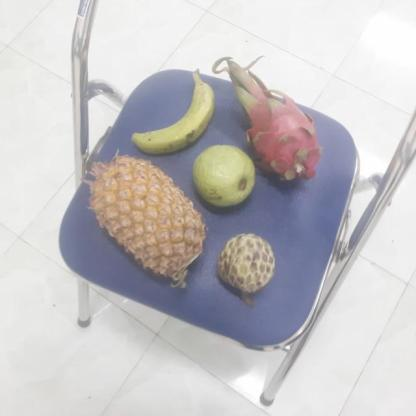annona: (212, 233, 274, 294)
banana: (128, 74, 214, 157)
guava: (190, 144, 256, 209)
pineapple: (86, 154, 204, 286)
pitaya: (228, 84, 318, 182)
